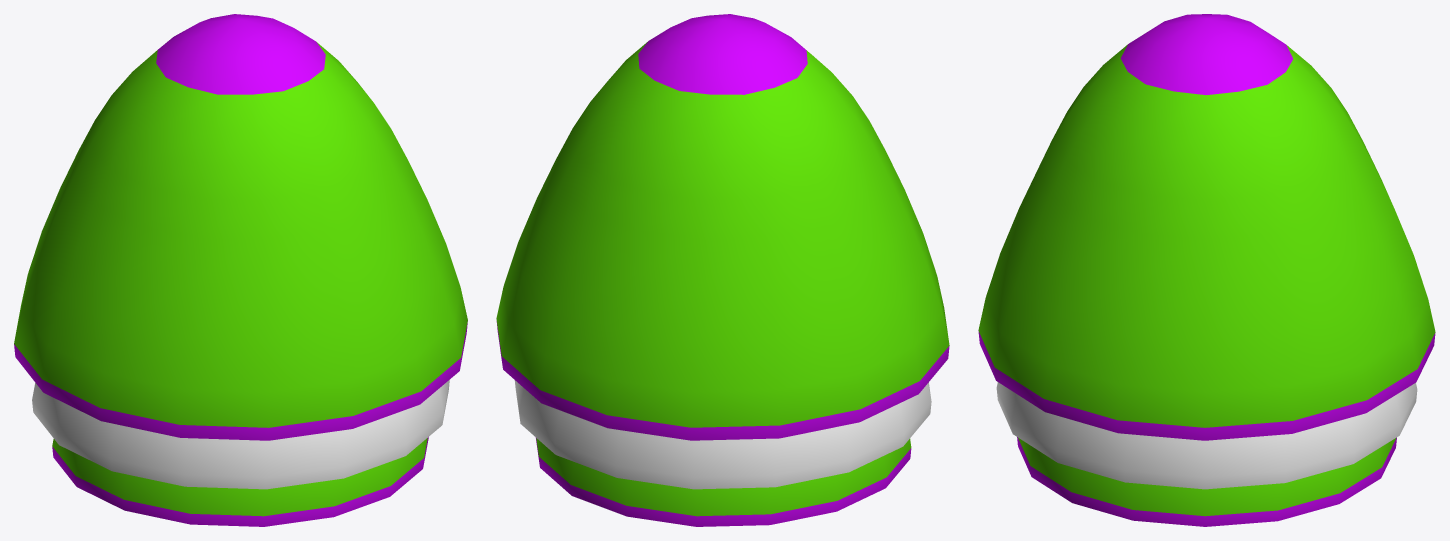
The model's file is head_lv3.fbx.
3 renders of one model, left to right at view 1: azimuth 30°, elevation 25°; view 2: azimuth 150°, elevation 25°; view 3: azimuth 270°, elevation 25°, orthographic.
Visible parts, largest first — view 1: head_lv3-; view 2: head_lv3-; view 3: head_lv3-.
Part boxes in pixels (x1,y1,x2,y2): head_lv3-: (14, 14, 467, 526); head_lv3-: (496, 14, 949, 526); head_lv3-: (978, 14, 1435, 526).
Size of the model in its own units: 131 by 136 by 131.
